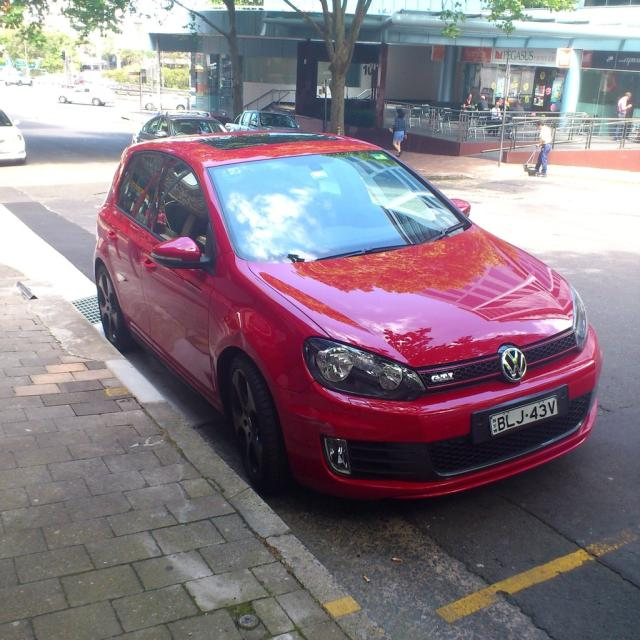car: (92, 126, 602, 502), (58, 84, 117, 107)
